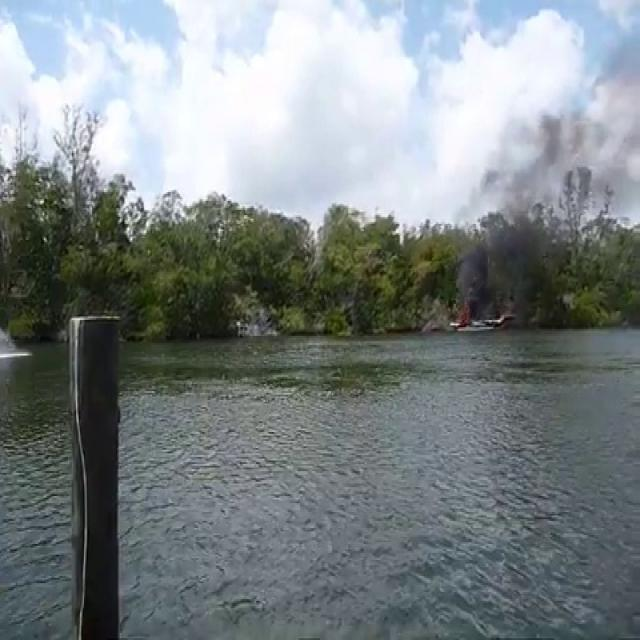Smoke: (456, 88, 630, 319)
